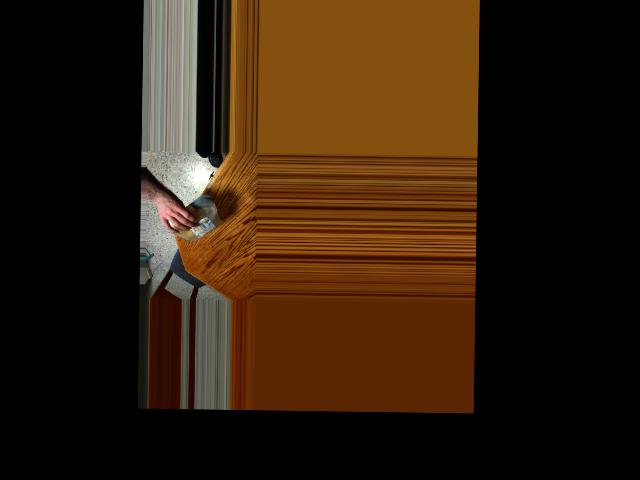cheese: (164, 197, 220, 243)
